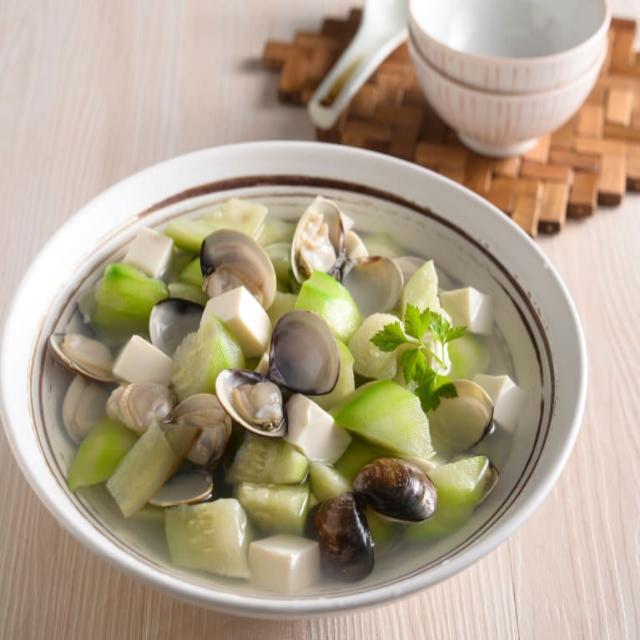Wet: (82, 194, 490, 552)
